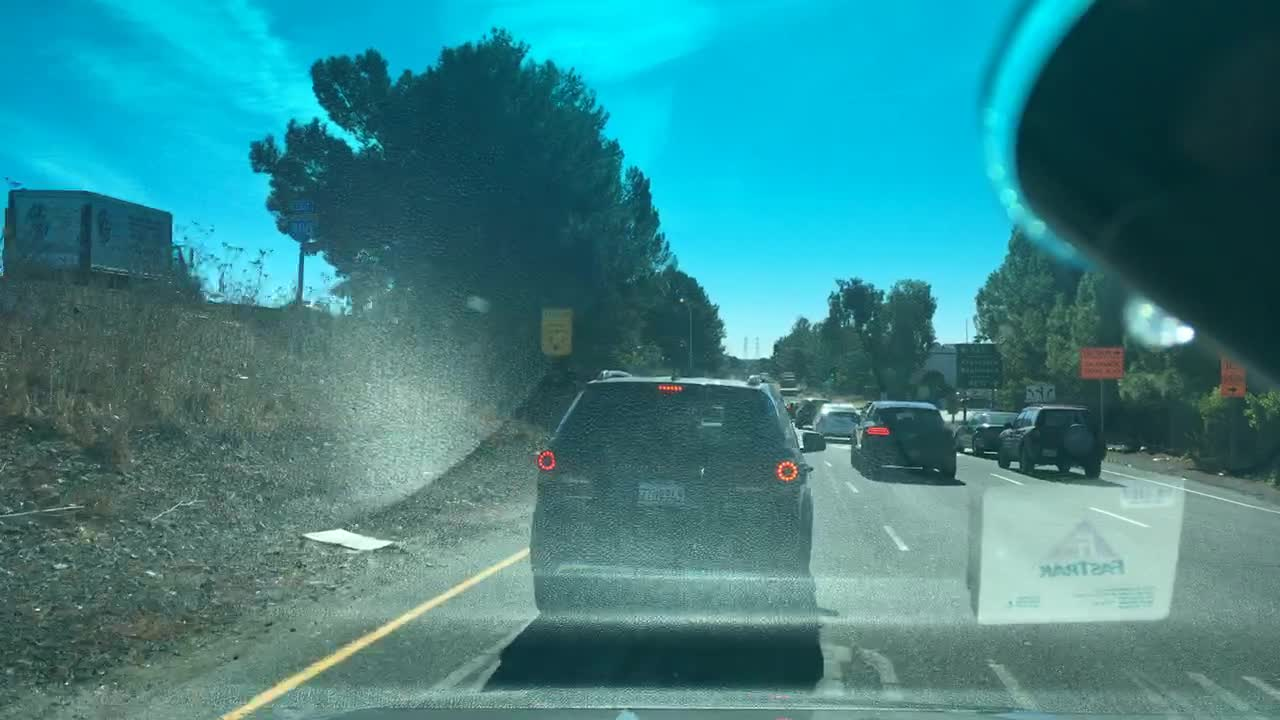bus: (778, 370, 799, 397)
car: (528, 368, 815, 632), (848, 402, 958, 480), (998, 405, 1106, 480), (952, 410, 1020, 455), (811, 401, 862, 440), (794, 398, 829, 431), (278, 296, 330, 314), (782, 396, 802, 419), (757, 368, 772, 384)
traffic sign: (954, 342, 1001, 388), (541, 307, 571, 357), (1079, 346, 1125, 378), (288, 199, 316, 240), (1223, 355, 1247, 397), (1025, 382, 1055, 400)
truck: (2, 187, 204, 301)
